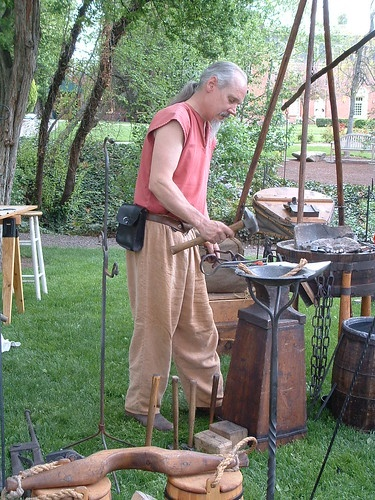hammer: (165, 203, 260, 261)
